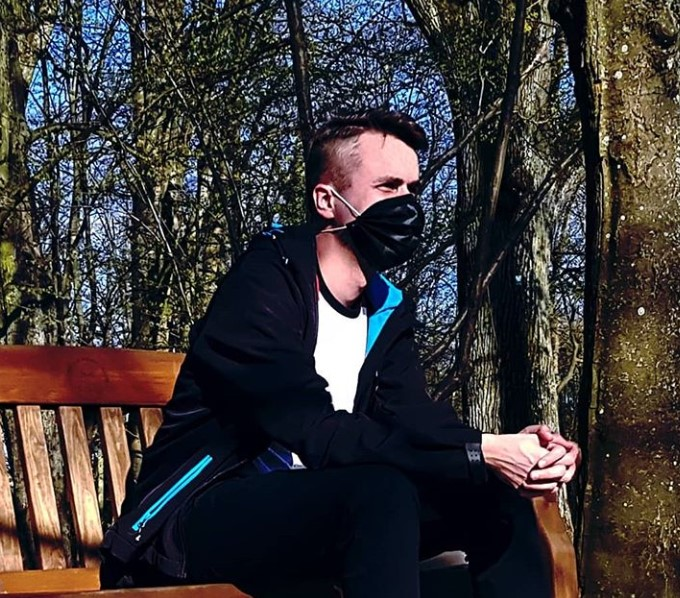face_with_mask: (306, 102, 433, 280)
